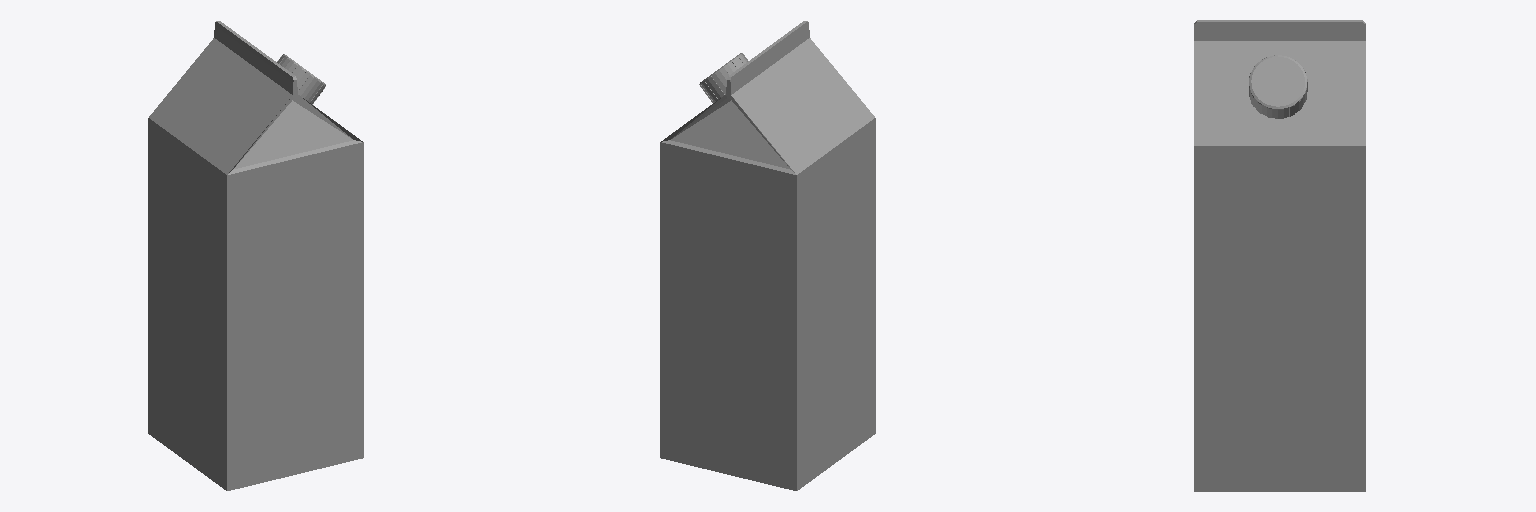
The robot description file, URDF, robot "milk_carton":
<?xml version="1.0"?>

<robot name="milk_carton">
  <link name="milk_carton">
    <gravity>false</gravity>
    <inertial>
       <mass value="0.02"/>
       <inertia
        ixx="0.0007"
        ixy="0"
        ixz="0"
        iyy="0.0007"
        iyz="0"
        izz="0.007" />
    </inertial>
    <collision>
        <geometry><box size="0.0001 0.0001 0.0001" /></geometry>
          <surface>
            <contact>
              <collide_without_contact>true</collide_without_contact>
            </contact>
          </surface>
    </collision>
    <visual>
      <geometry>
        <mesh filename="package://milkshake_demo/models/milk_carton/meshes/milk_carton.dae"/>
      </geometry>
    </visual>
  </link>
</robot>

--- Render facts (derived) ---
The picture shows the robot from 3 angles, left to right: view 1: azimuth 30°, elevation 25°; view 2: azimuth 150°, elevation 25°; view 3: azimuth 270°, elevation 25°; orthographic projection.
Robot: milk_carton — 1 links, 0 joints (none); root link milk_carton; default pose: every joint at zero.
Links seen in each view (by area): view 1: milk_carton; view 2: milk_carton; view 3: milk_carton.
Boxes of the visible links, bbox=[...] form: milk_carton: bbox=[148, 21, 363, 490]; milk_carton: bbox=[660, 21, 875, 490]; milk_carton: bbox=[1194, 20, 1365, 491].
Bounding box of the posed robot: 0.1 × 0.1 × 0.2784 m (x, y, z).
1 mesh visuals loaded from 1 distinct referenced files (1 Collada DAE).